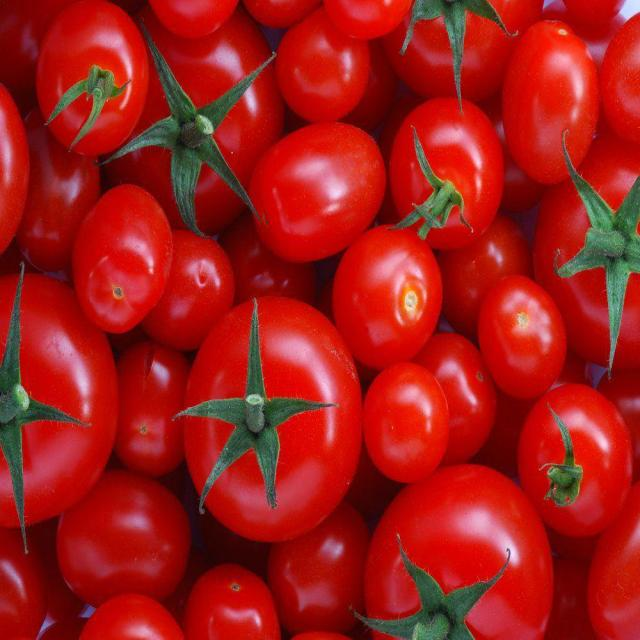Tomato: (183, 293, 367, 534), (256, 122, 388, 254), (394, 100, 510, 246), (521, 388, 629, 534), (41, 10, 144, 160), (508, 19, 602, 179), (331, 228, 448, 351), (482, 264, 572, 399), (79, 202, 170, 328), (363, 354, 447, 484)
